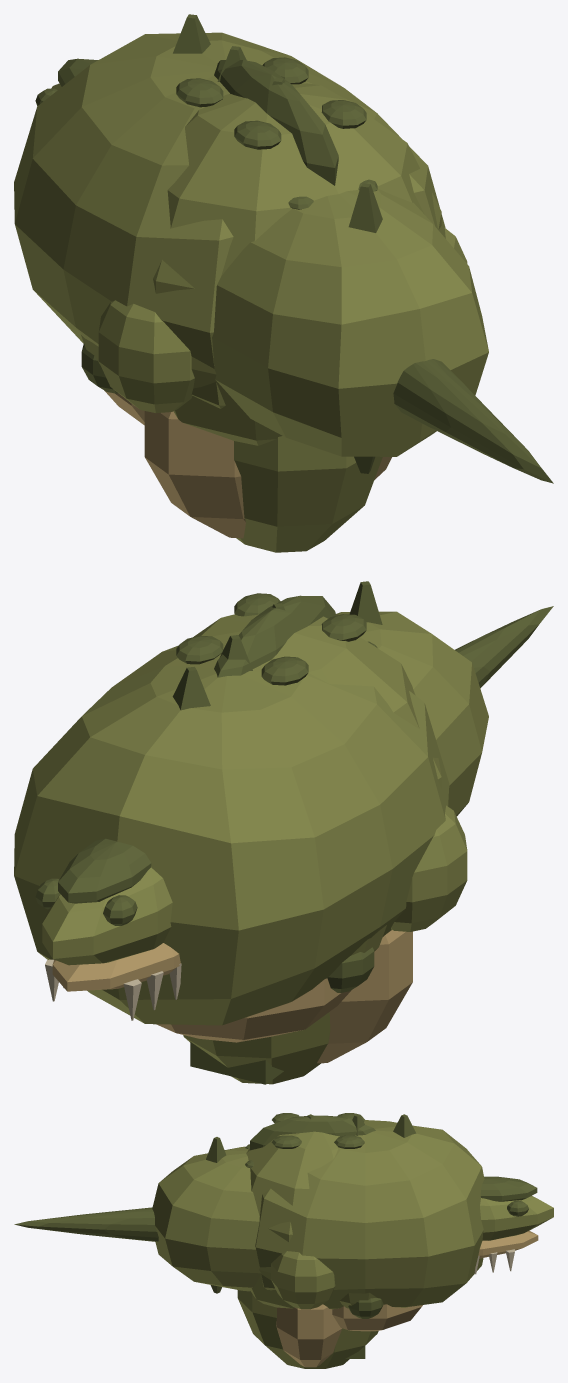
File: trex.glb
3 views of the same model, one above another, from view 1: azimuth 30°, elevation 25°; view 2: azimuth 150°, elevation 25°; view 3: azimuth 270°, elevation 25° (orthographic). The views are drawn at different scales.
Visible parts, largest first — view 1: tail1, spine1, root, thigh_l, tail4, spine2, head; view 2: spine1, root, head, tail1, thigh_l, tail4, spine2, thigh_r; view 3: spine1, root, tail1, head, tail4, thigh_l, spine2.
Boxes of the visible parts, bbox=[...] form: tail1: bbox=[212, 179, 488, 473]; spine1: bbox=[14, 14, 445, 425]; root: bbox=[98, 57, 467, 538]; thigh_l: bbox=[234, 436, 382, 552]; tail4: bbox=[393, 359, 553, 483]; spine2: bbox=[81, 335, 117, 393]; head: bbox=[35, 58, 98, 105]; spine1: bbox=[14, 603, 449, 1042]; root: bbox=[176, 593, 467, 1063]; head: bbox=[35, 838, 181, 1020]; tail1: bbox=[336, 581, 488, 816]; thigh_l: bbox=[183, 1012, 330, 1084]; tail4: bbox=[455, 606, 553, 688]; spine2: bbox=[327, 925, 386, 992]; thigh_r: bbox=[201, 1050, 265, 1084]; spine1: bbox=[255, 1114, 484, 1331]; root: bbox=[246, 1113, 375, 1367]; tail1: bbox=[152, 1137, 261, 1293]; head: bbox=[474, 1176, 553, 1274]; tail4: bbox=[14, 1207, 158, 1241]; thigh_l: bbox=[237, 1290, 378, 1368]; spine2: bbox=[340, 1292, 383, 1318].
Size of the model in its own units: 1.39 by 1.78 by 3.46.
